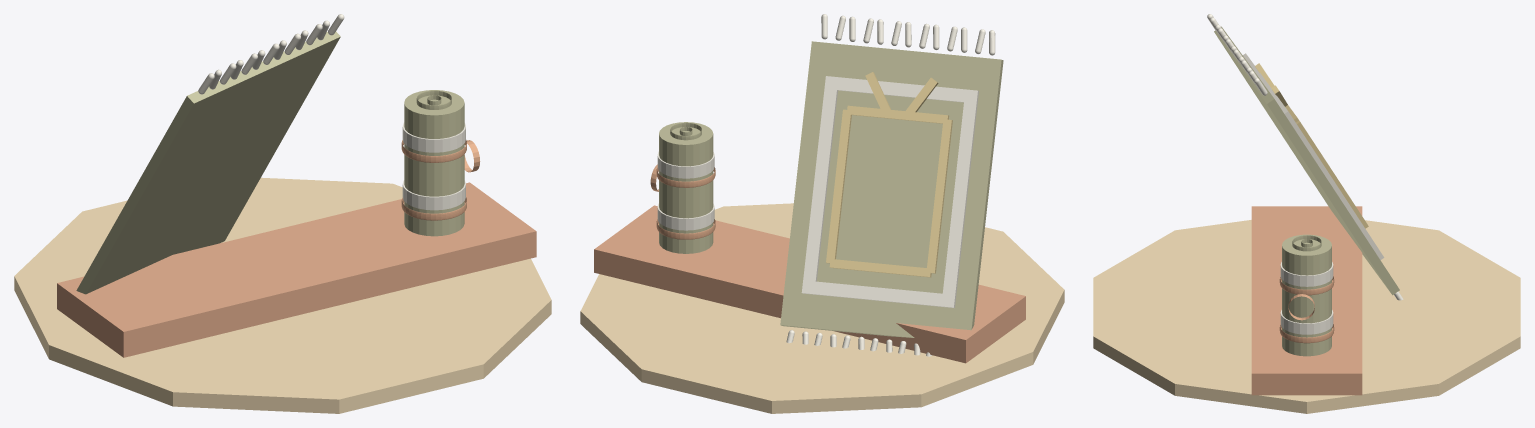
Rendered from seccade.glb.
The picture shows the model from 3 angles, left to right: view 1: azimuth 30°, elevation 25°; view 2: azimuth 150°, elevation 25°; view 3: azimuth 270°, elevation 25°; orthographic projection. The views are drawn at different scales.
Parts seen in each view (by area): view 1: Ground, Plank, Rug, Roll, Roll_Band_1, Roll_Band_0, Roll_Rope_1, Roll_Rope_0; view 2: Rug, Ground, Plank, Roll, Frame_F3, Frame_F4, Frame_F2, Frame_F1, Gold_G3, Gold_G4, Gold_G2, Gold_G1 (+4 smaller); view 3: Ground, Plank, Roll, Rug, Frame_F4, Roll_Band_0, Roll_Band_1, Gold_G4.
Part boxes in pixels (bbox=[...]): Ground: bbox=[14, 177, 551, 413]; Plank: bbox=[57, 182, 536, 357]; Rug: bbox=[76, 31, 340, 294]; Roll: bbox=[404, 90, 464, 236]; Roll_Band_1: bbox=[402, 180, 465, 210]; Roll_Band_0: bbox=[402, 122, 465, 152]; Roll_Rope_1: bbox=[401, 197, 466, 220]; Roll_Rope_0: bbox=[401, 140, 466, 162]; Rug: bbox=[780, 41, 1003, 337]; Ground: bbox=[580, 203, 1064, 413]; Plank: bbox=[594, 205, 1025, 363]; Roll: bbox=[659, 122, 713, 253]; Frame_F3: bbox=[941, 90, 978, 308]; Frame_F4: bbox=[801, 76, 838, 293]; Frame_F2: bbox=[808, 281, 948, 307]; Frame_F1: bbox=[831, 77, 971, 102]; Gold_G3: bbox=[927, 119, 952, 273]; Gold_G4: bbox=[826, 109, 851, 263]; Gold_G2: bbox=[829, 259, 931, 277]; Gold_G1: bbox=[847, 105, 949, 123]; Ground: bbox=[1093, 220, 1520, 413]; Plank: bbox=[1251, 206, 1362, 395]; Roll: bbox=[1282, 234, 1331, 356]; Rug: bbox=[1214, 26, 1399, 295]; Frame_F4: bbox=[1282, 109, 1384, 259]; Roll_Band_0: bbox=[1280, 262, 1333, 286]; Roll_Band_1: bbox=[1280, 310, 1333, 334]; Gold_G4: bbox=[1296, 120, 1367, 227].
Size of the model in its own units: 1.7 by 1.05 by 1.62.
